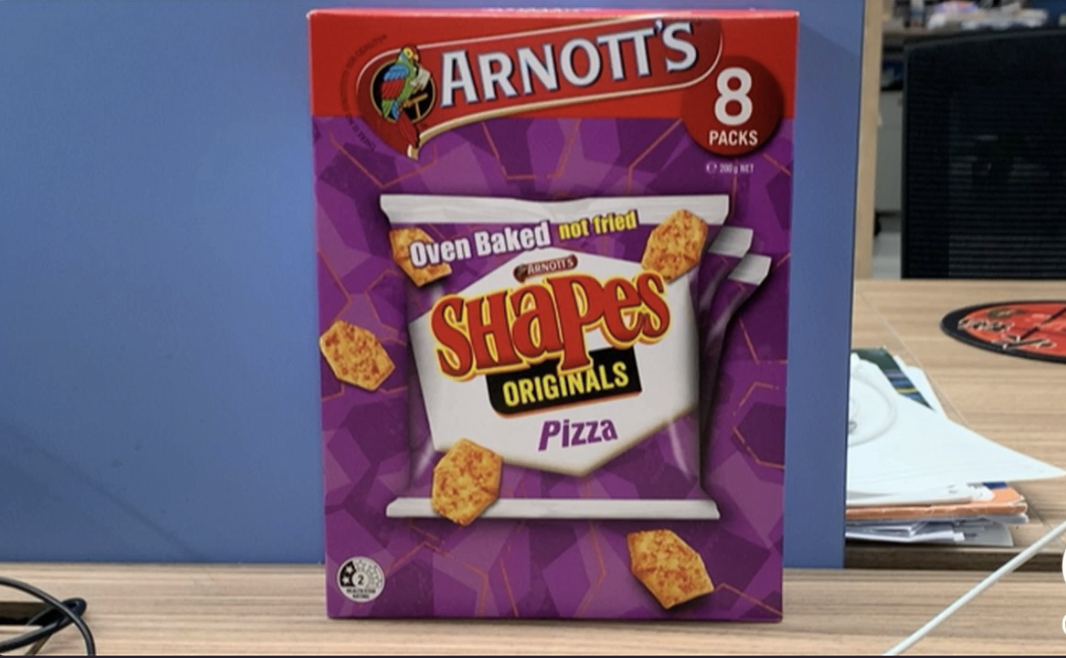crackers_200g-299g: (322, 21, 781, 608)
